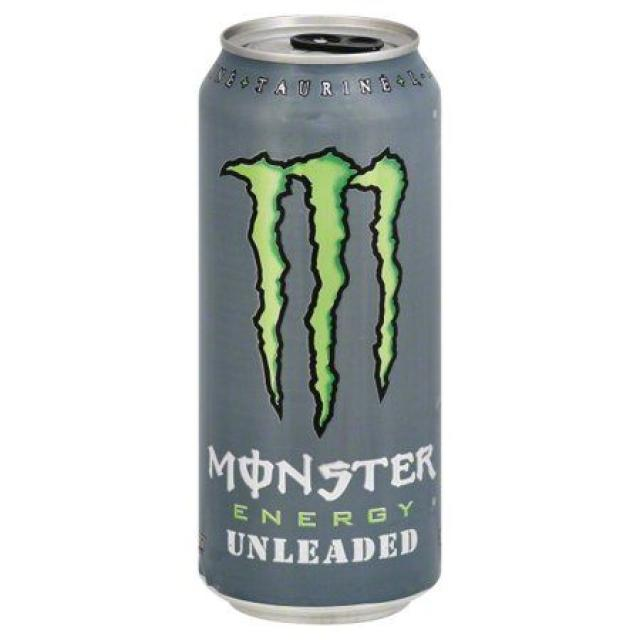Cans: (196, 9, 454, 624)
